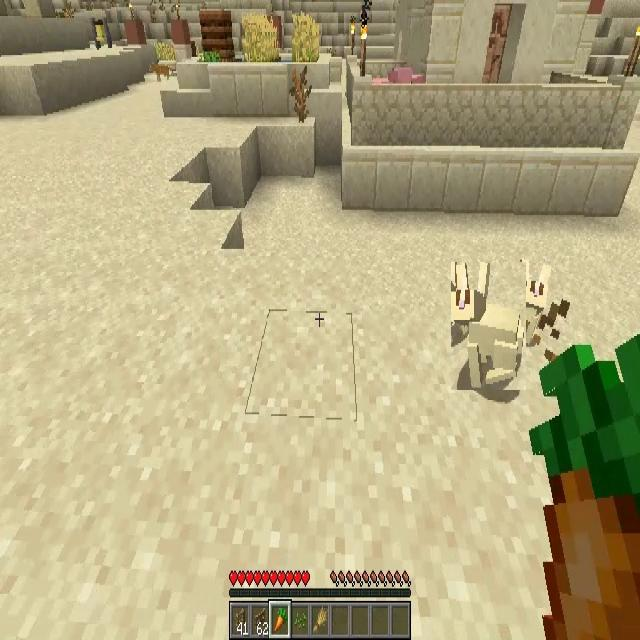rabbit: (451, 262, 526, 390), (503, 261, 550, 347)
